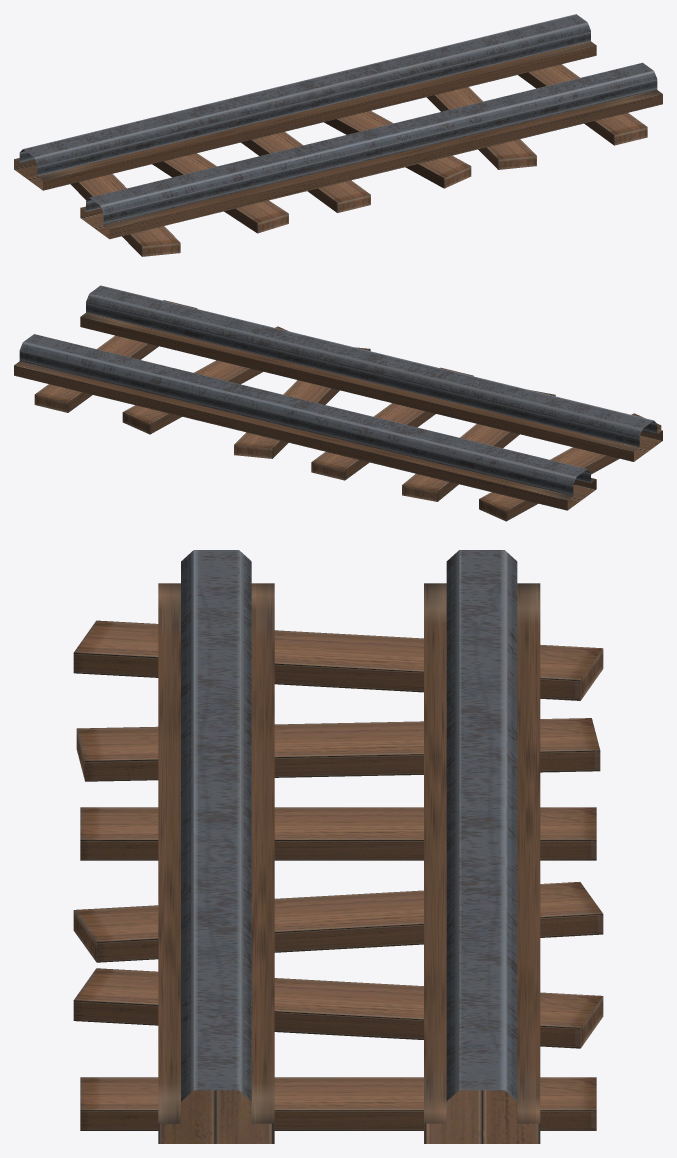
The model's file is StraightTrack.obj.
3 renders of one model, top to bottom at view 1: azimuth 30°, elevation 25°; view 2: azimuth 150°, elevation 25°; view 3: azimuth 270°, elevation 25°, orthographic. The views are drawn at different scales.
Visible parts, largest first — view 1: StraightTrack_0; view 2: StraightTrack_0; view 3: StraightTrack_0.
Boxes of the visible parts, box(x1,y1,x2,y2) form: StraightTrack_0: box(14, 14, 662, 256); StraightTrack_0: box(14, 285, 662, 521); StraightTrack_0: box(73, 550, 603, 1143).
Size of the model in its own units: 2 by 0.1286 by 0.8287.
Materials: 1 (1 with a texture image).
